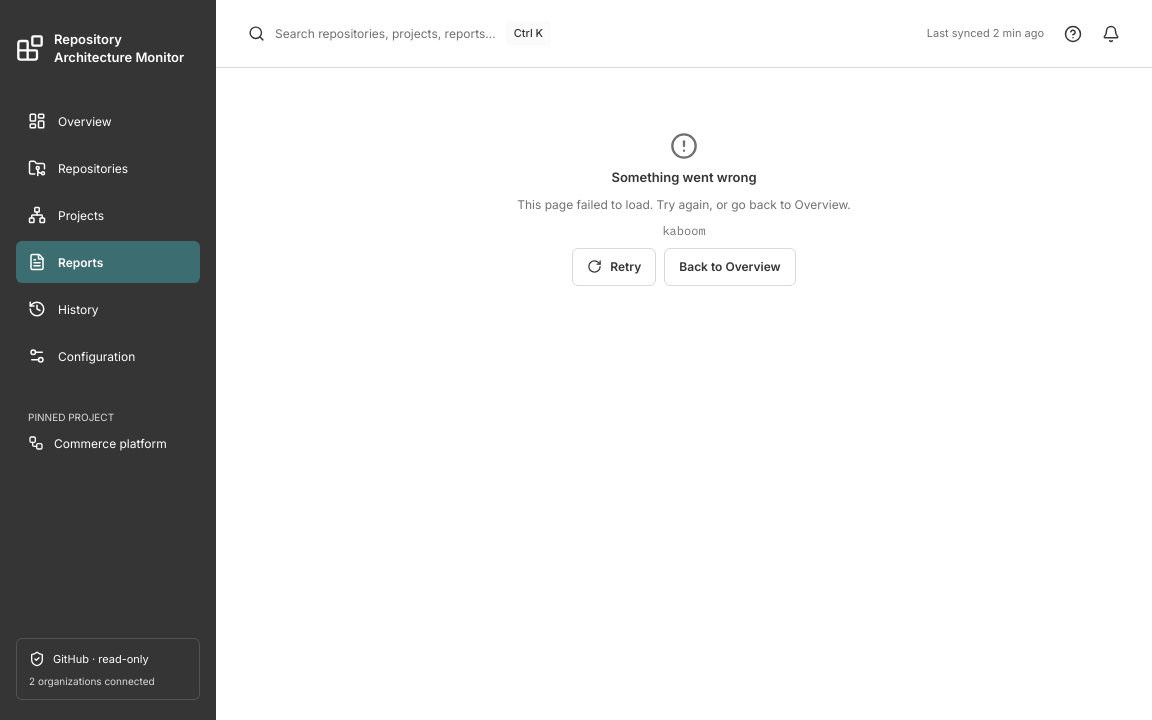
it: AppShell error boundary › shows an in-shell error for a failing route and recovers on navigation
Expected: the heading "Something went wrong" is shown, [611,168,756,188]
Expected: the text "kaboom" is shown, [662,222,706,240]
Click the link "History": {"x": 63, "y": 309} [28,300,99,318]
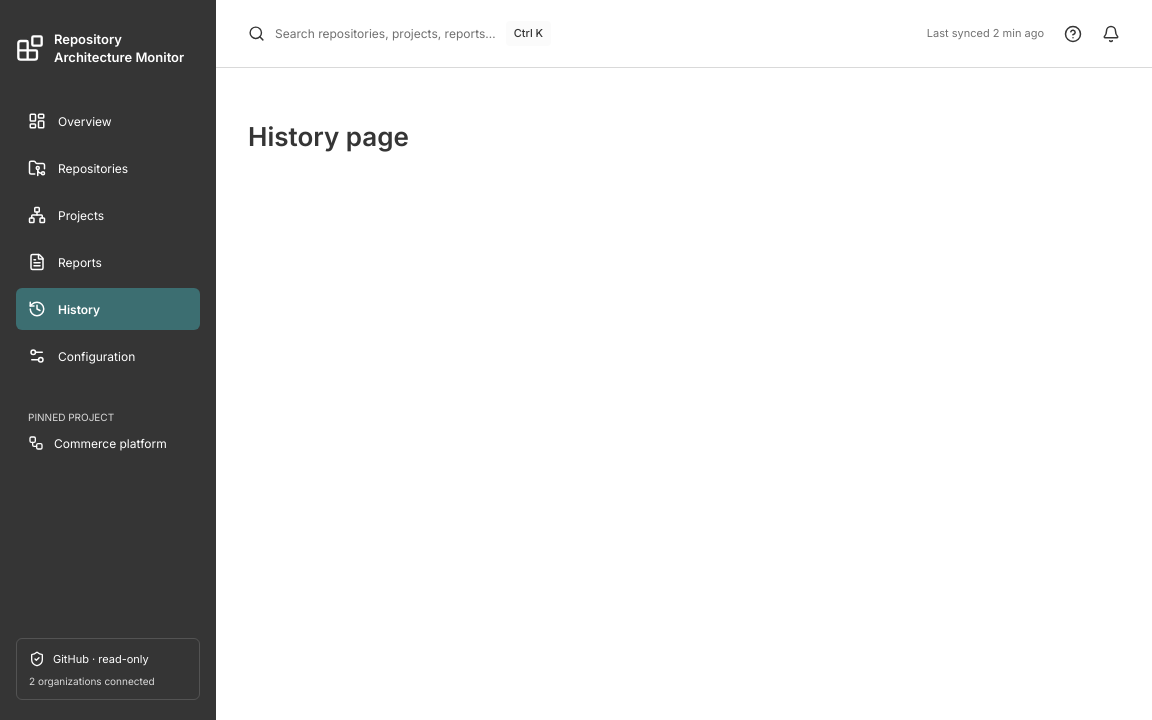
Result: the heading "History page" is shown at [248,121,409,152]
Result: the heading "Something went wrong" is gone
